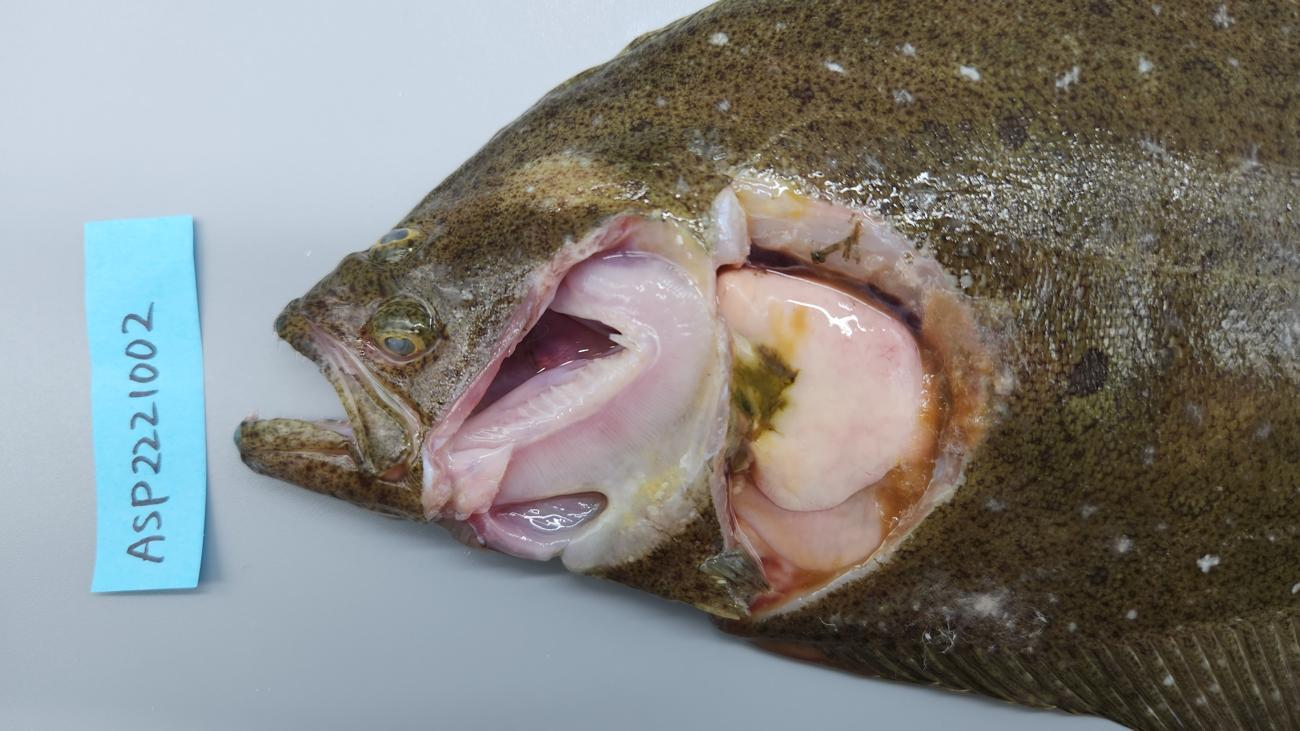SPGIP: (492, 250, 713, 506)
